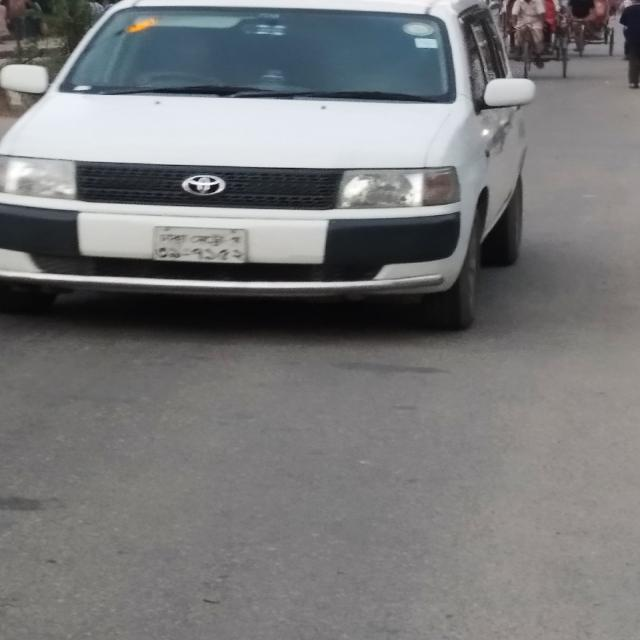numberplate: (150, 224, 250, 264)
